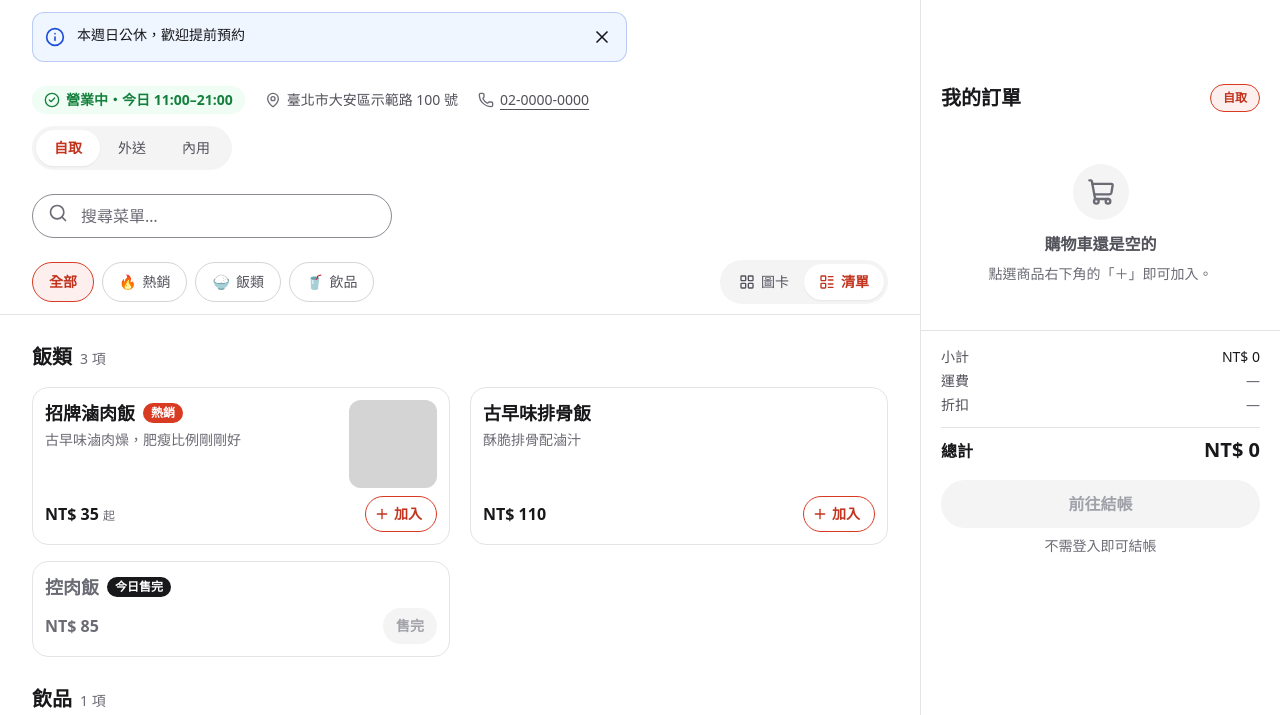
Test: 首次載入：整頁骨架一次換成內容（避免版面位移，NFR-03 CLS） › 店家公告顯示在首頁，可關閉（當日不再顯示）
Check: the text "本週日公休，歡迎提前預約" is shown, box top-left (76, 24), bottom-right (245, 44)
Click the button named "關閉公告".
click(602, 37)  # box top-left (584, 19), bottom-right (620, 55)
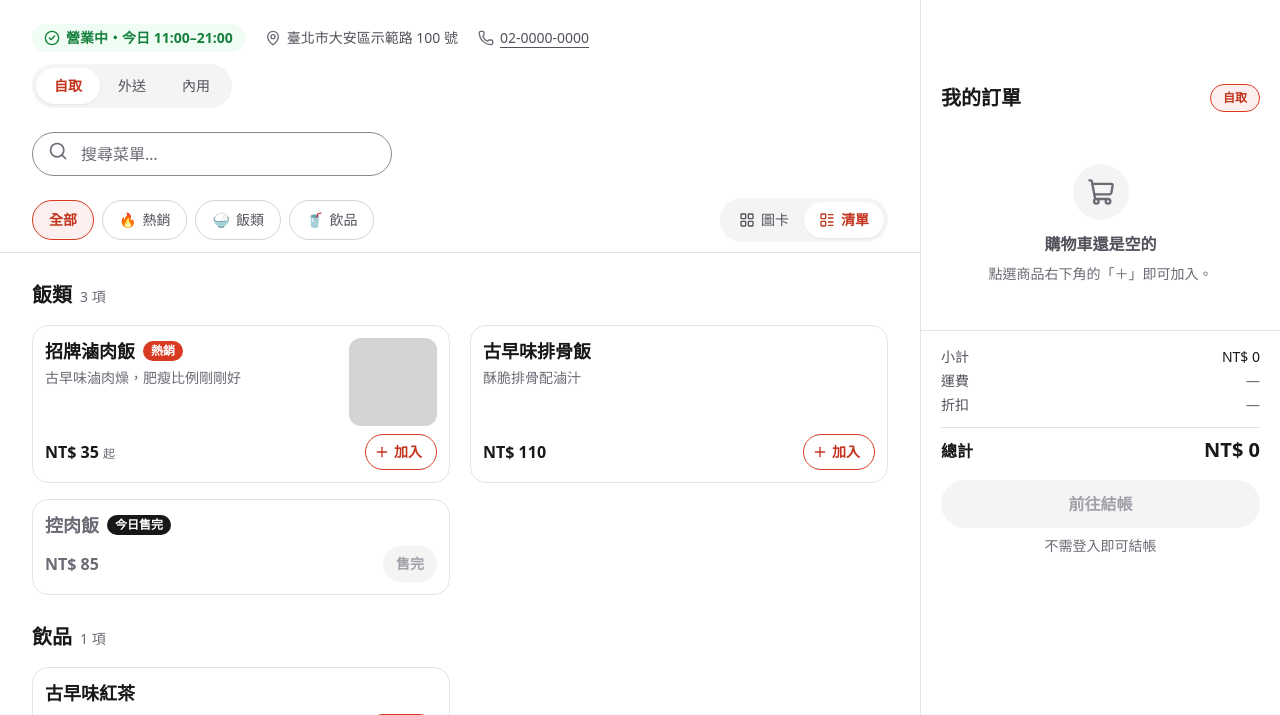
Check: the element "店家公告" is gone
